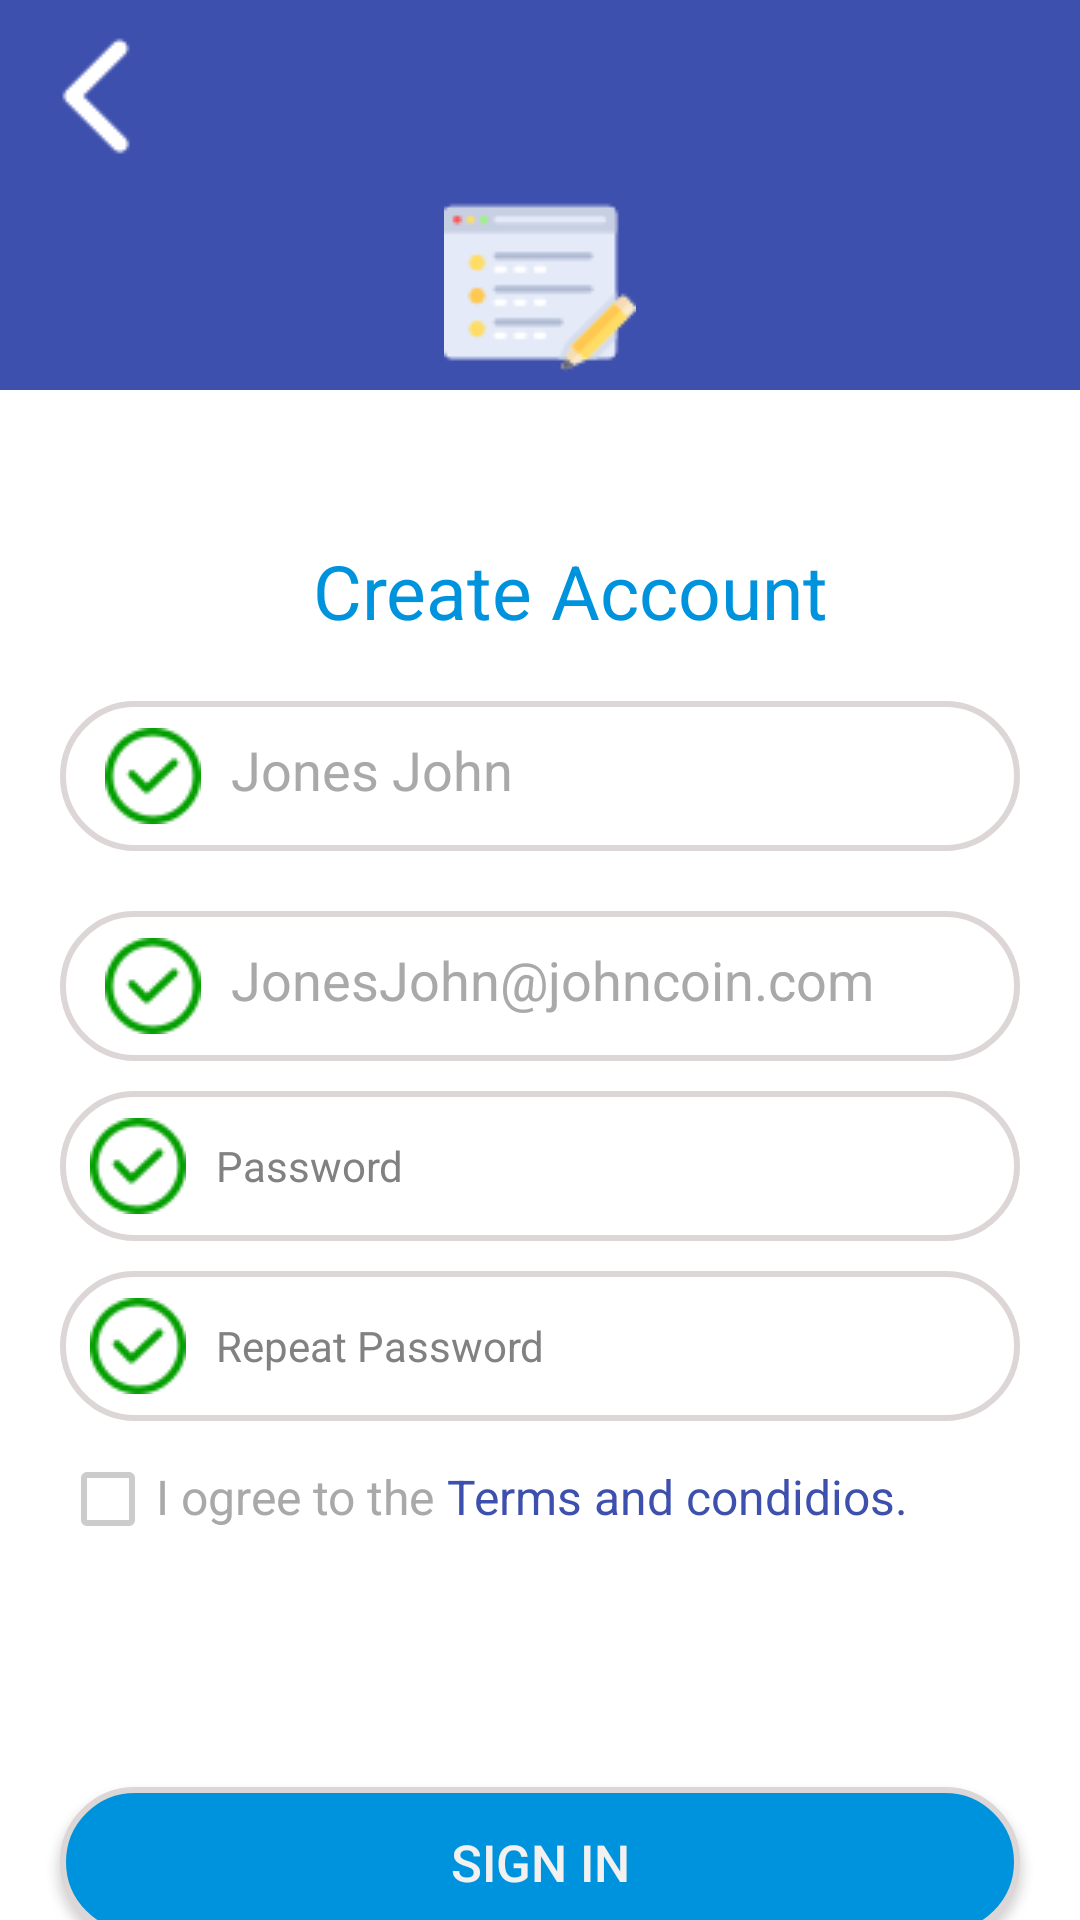

Screen size 1080 × 1920. Icon name, then its box in pixels as (x1, y1, x2, y2):
back arrow: (62, 38, 130, 154)
web site: (444, 204, 636, 370)
